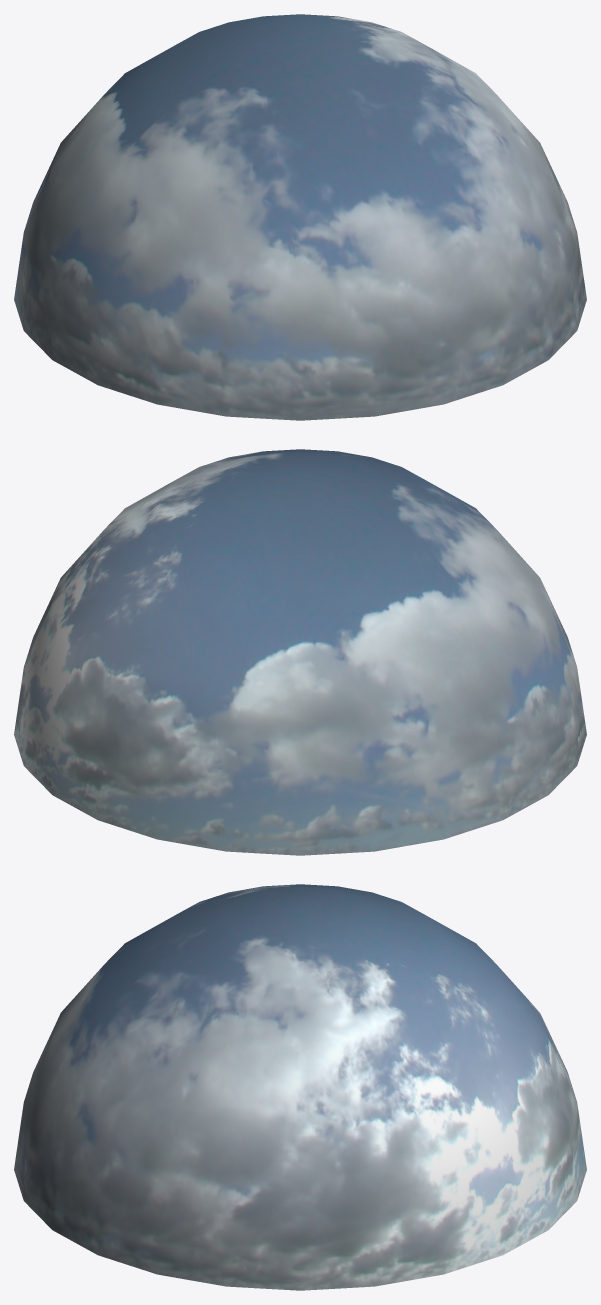
Rendered from skydome.dae.
The picture shows the model from 3 angles, top to bottom: view 1: azimuth 30°, elevation 25°; view 2: azimuth 150°, elevation 25°; view 3: azimuth 270°, elevation 25°; orthographic projection.
Visible parts, largest first — view 1: Sphere01_3; view 2: Sphere01_3; view 3: Sphere01_3.
Part boxes in pixels (left/top/right/bottom): Sphere01_3: left=14, top=14, right=586, bottom=420; Sphere01_3: left=14, top=449, right=586, bottom=855; Sphere01_3: left=14, top=884, right=586, bottom=1290.
Bounding box in the file's own units: 6232 × 6232 × 3116.
Materials: 1 (1 with a texture image).
